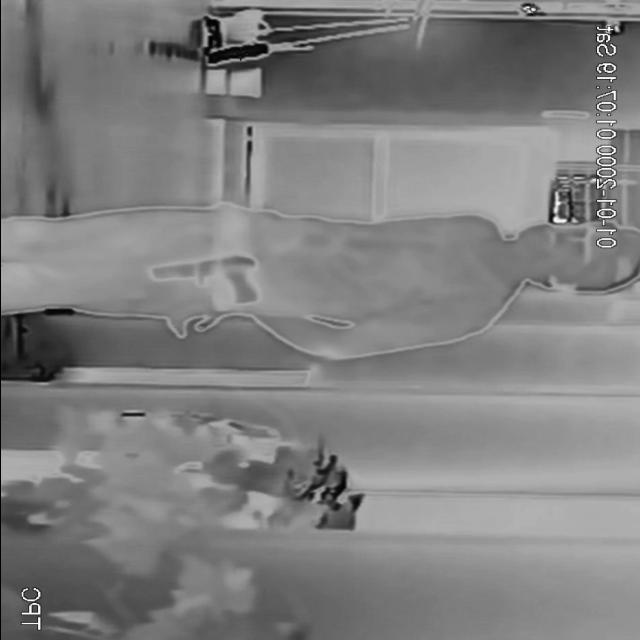Weapon: (147, 240, 264, 309)
